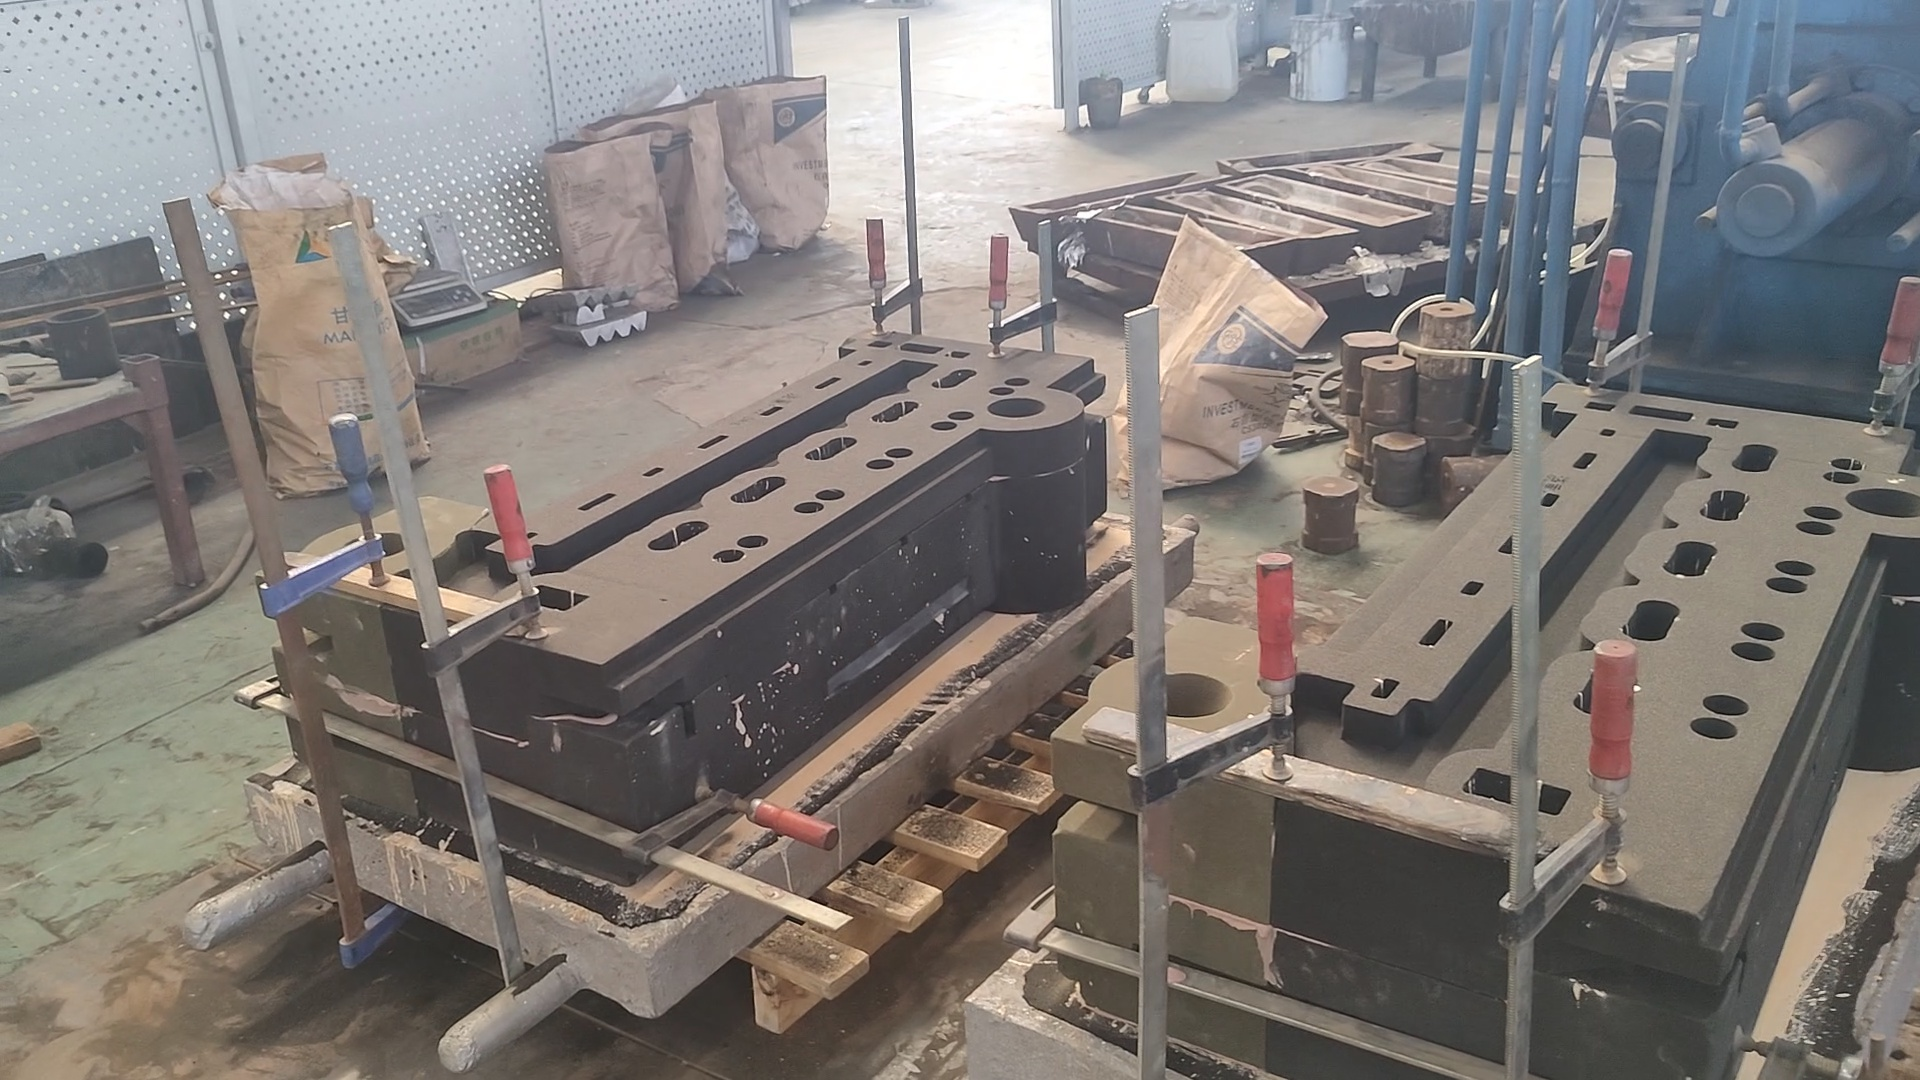pouring hole: (1149, 673, 1232, 717), (1845, 487, 1920, 518), (342, 531, 407, 556), (986, 398, 1047, 418), (44, 307, 104, 322)
